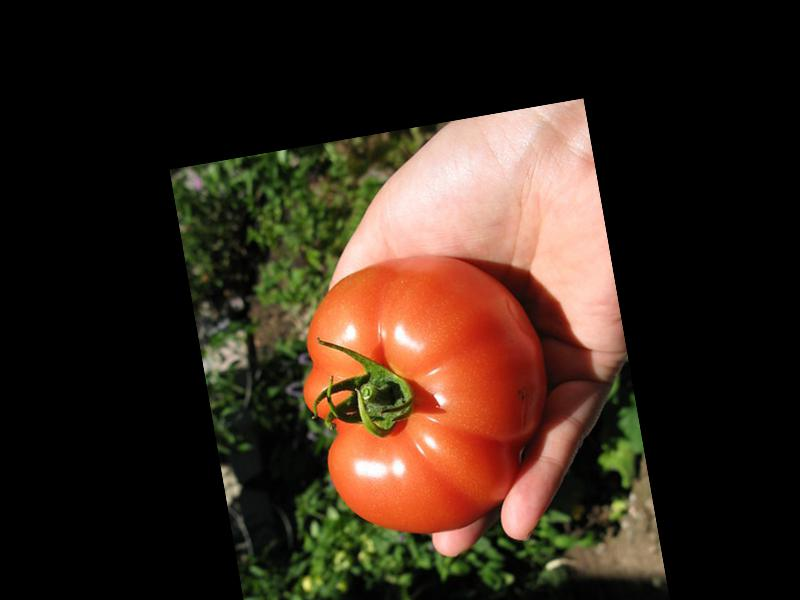Tomato: (284, 240, 566, 551)
